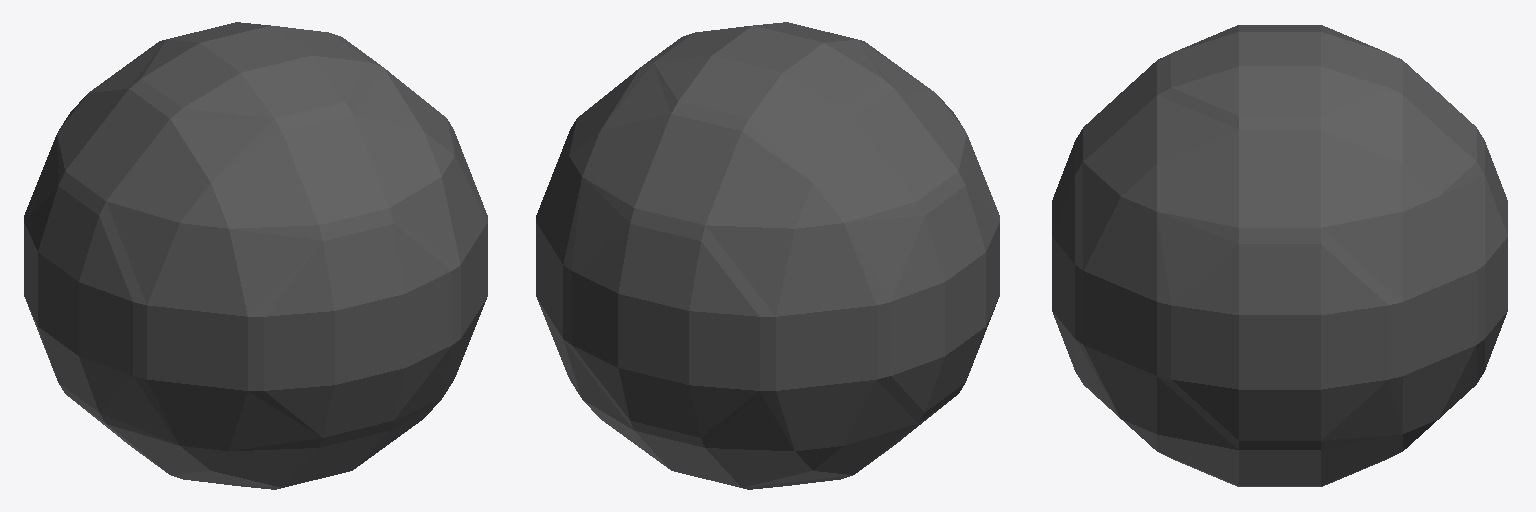
File: ball_obj.obj
3 renders of one model, left to right at view 1: azimuth 30°, elevation 25°; view 2: azimuth 150°, elevation 25°; view 3: azimuth 270°, elevation 25°, orthographic.
Parts seen in each view (by area): view 1: Mball; view 2: Mball; view 3: Mball.
Part boxes in pixels (bbox=[...]): Mball: bbox=[24, 22, 487, 489]; Mball: bbox=[536, 22, 999, 489]; Mball: bbox=[1052, 25, 1507, 486].
Bounding box in the file's own units: 2.23 × 2.23 × 2.23.